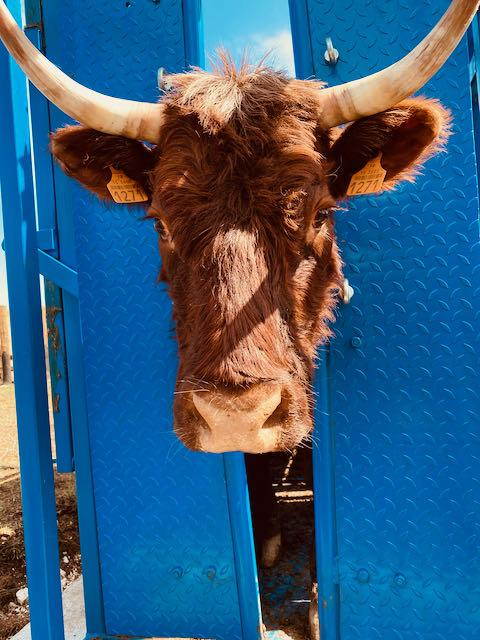muzzles: (158, 380, 324, 462)
